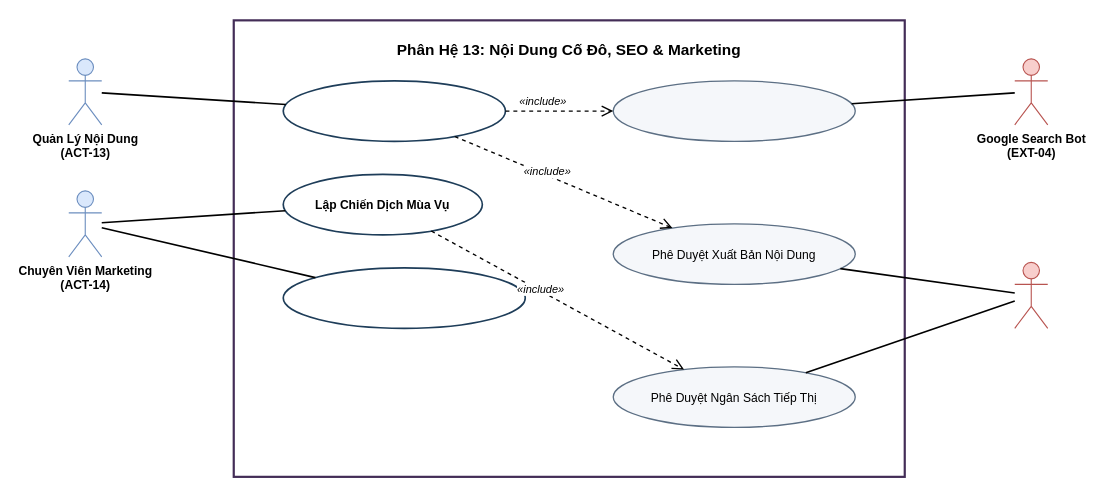
The diagram is 1104 pixels wide and 496 high, and some of its shapes have lost their labels. The shapes that lost their labels are listed below. From the top down, each one's centre as x and y in pixels, then its label:
At (394,111): "Biên Tập Bài Viết Di Sản".
At (733,110): "Cấu Hình SEO On-page / Schema".
At (404,298): "Đo Lường KPI & ROI Tiếp Thị".
At (1031,294): "Ban Giám Đốc (ACT-16)".
